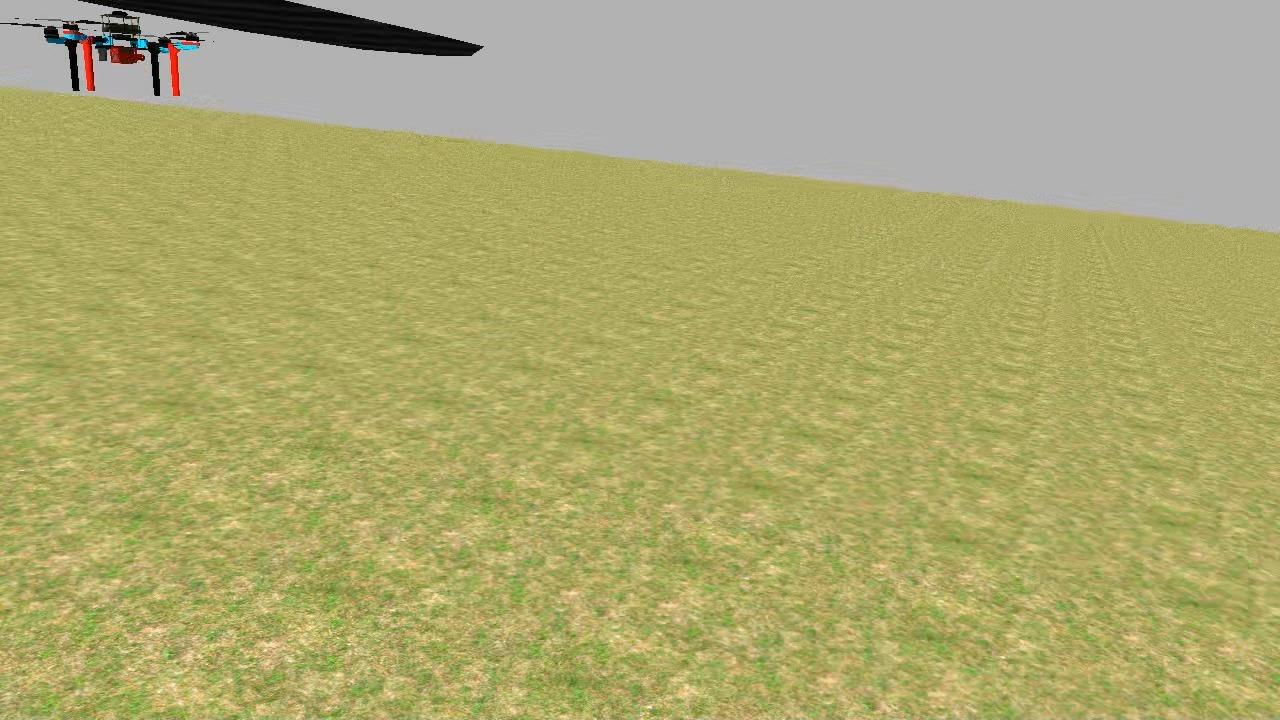UAV: (41, 0, 211, 104)
